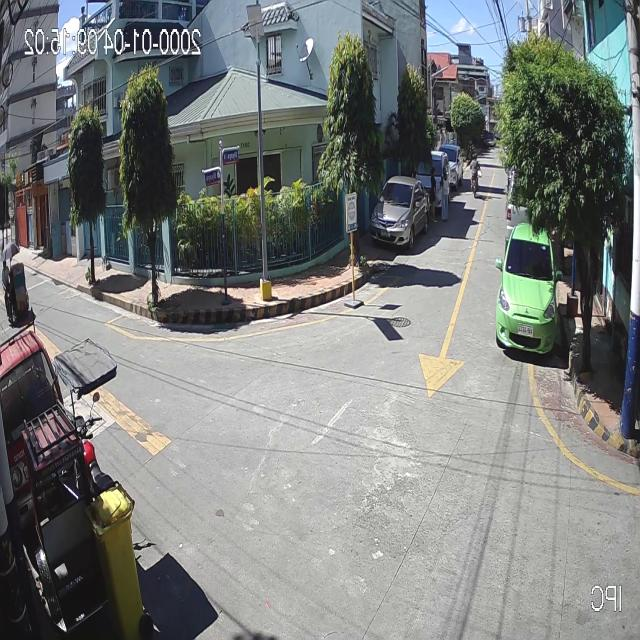standing: (426, 166, 439, 223), (439, 166, 451, 221)
